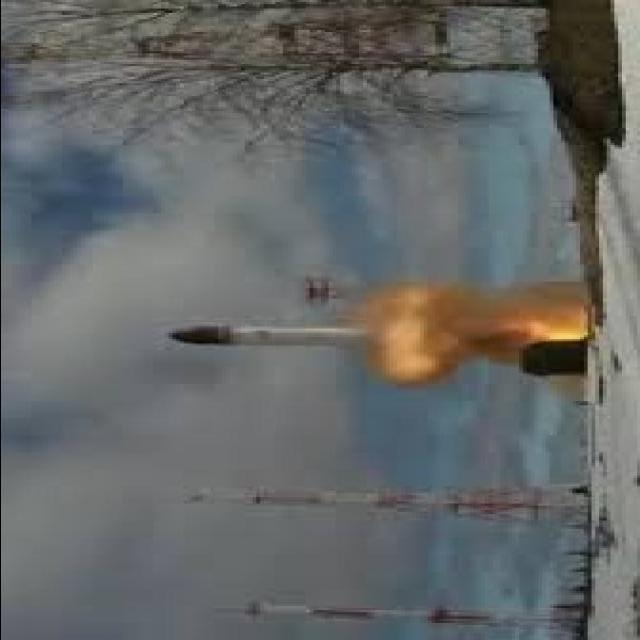Missile: (153, 320, 396, 350)
